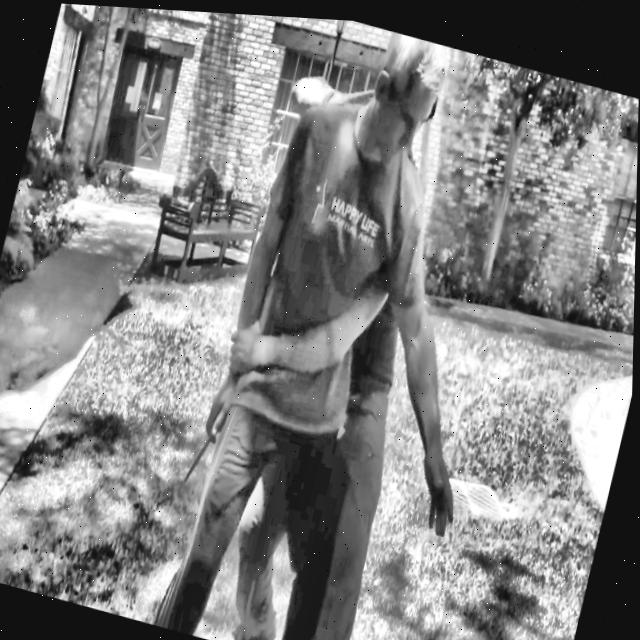robbery: (116, 8, 560, 640)
